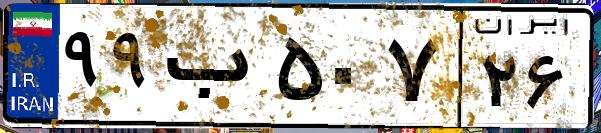0: (330, 28, 385, 110)
2: (475, 38, 525, 113)
5: (270, 28, 330, 110)
6: (525, 38, 570, 115)
7: (385, 28, 445, 110)
9: (57, 26, 110, 100), (110, 28, 158, 98)
ب: (158, 20, 270, 120)
